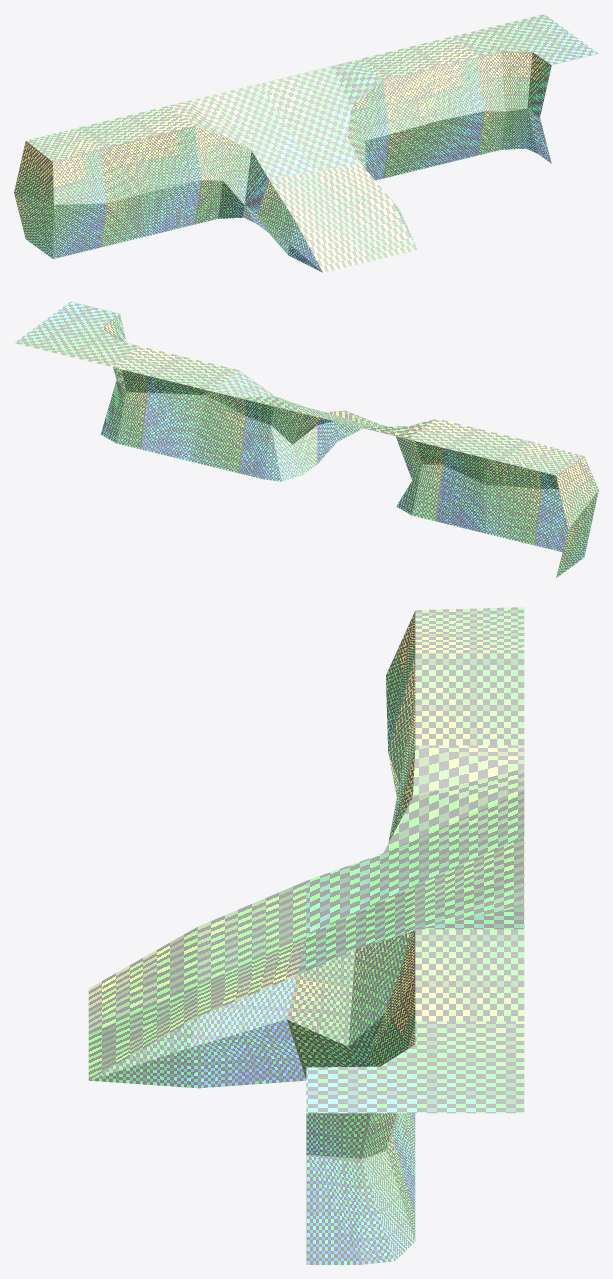
The model's file is simple_cliffs.glb.
The picture shows the model from 3 angles, top to bottom: view 1: azimuth 30°, elevation 25°; view 2: azimuth 150°, elevation 25°; view 3: azimuth 270°, elevation 25°; orthographic projection. The views are drawn at different scales.
Visible parts, largest first — view 1: CliffSide1, CliffSide2, RampUpperLeft, CliffInner, RampUpperRight, CliffOuter, RampLowerLeft, RampLowerRight; view 2: CliffSide1, CliffSide2, CliffInner, RampUpperRight, CliffOuter, RampUpperLeft, RampLowerRight; view 3: CliffInner, RampUpperRight, RampLowerRight, RampUpperLeft, CliffSide2, CliffSide1, RampLowerLeft, CliffOuter.
Part boxes in pixels (x1=…): CliffSide1: x1=73, y1=106, x2=201, y2=247; CliffSide2: x1=356, y1=37, x2=484, y2=178; RampUpperLeft: x1=167, y1=83, x2=315, y2=232; CliffInner: x1=450, y1=14, x2=598, y2=163; RampUpperRight: x1=262, y1=60, x2=389, y2=180; CliffOuter: x1=14, y1=129, x2=106, y2=258; RampLowerLeft: x1=257, y1=172, x2=370, y2=272; RampLowerRight: x1=316, y1=163, x2=417, y2=261; CliffSide1: x1=408, y1=418, x2=542, y2=545; CliffSide2: x1=113, y1=346, x2=246, y2=473; CliffInner: x1=14, y1=301, x2=147, y2=449; RampUpperRight: x1=211, y1=370, x2=362, y2=481; CliffOuter: x1=507, y1=442, x2=598, y2=577; RampUpperLeft: x1=312, y1=415, x2=443, y2=521; RampLowerRight: x1=317, y1=410, x2=387, y2=463; CliffInner: x1=306, y1=1021, x2=524, y2=1264; RampUpperRight: x1=287, y1=837, x2=524, y2=1125; RampLowerRight: x1=88, y1=936, x2=306, y2=1088; RampUpperLeft: x1=306, y1=745, x2=524, y2=935; CliffSide2: x1=368, y1=929, x2=524, y2=1217; CliffSide1: x1=388, y1=653, x2=524, y2=841; RampLowerLeft: x1=88, y1=881, x2=306, y2=1034; CliffOuter: x1=386, y1=607, x2=524, y2=750.
Size of the model in its own units: 5.62 by 1 by 2.
